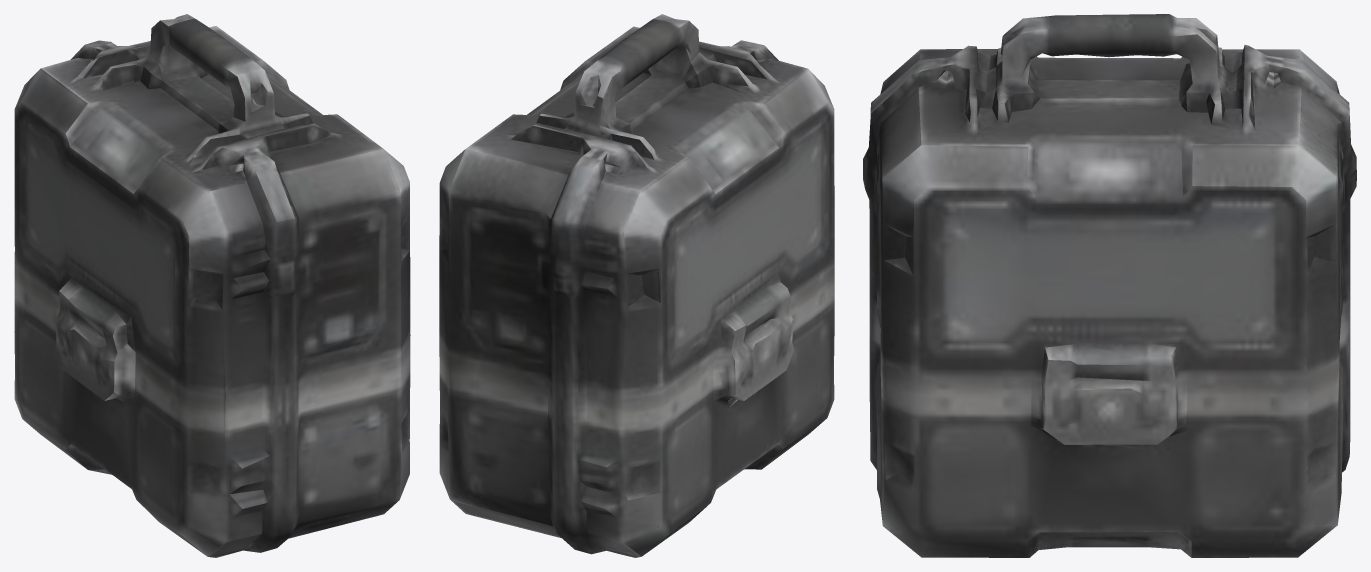
3 views of the same model, side by side, from view 1: azimuth 30°, elevation 25°; view 2: azimuth 150°, elevation 25°; view 3: azimuth 270°, elevation 25° (orthographic). The views are drawn at different scales.
Parts seen in each view (by area): view 1: body; view 2: body; view 3: body.
Part boxes in pixels (box(x1,y1,x2,y2)): body: box(14, 14, 410, 557); body: box(439, 14, 834, 557); body: box(863, 14, 1356, 557).
Size of the model in its own units: 0.2462 by 0.4005 by 0.3572.
Materials: 1 (1 with a texture image).
